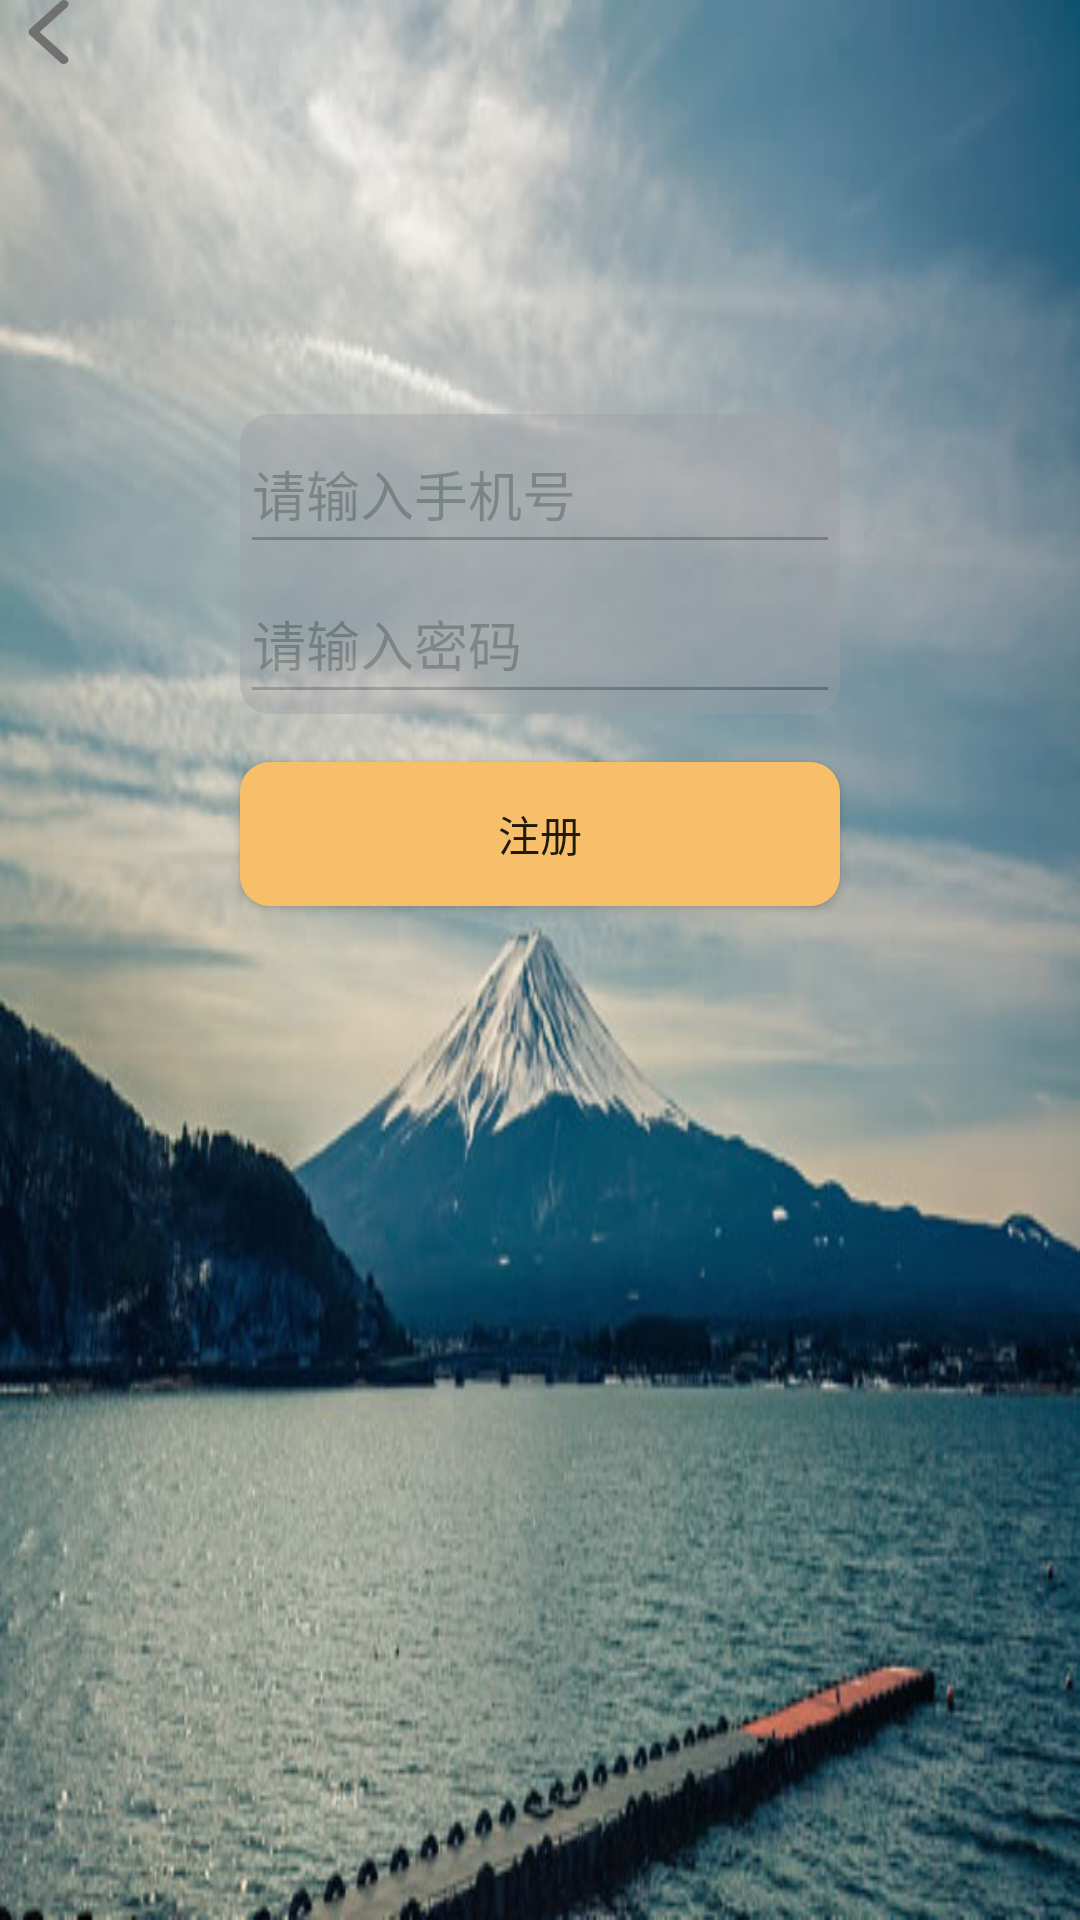

Screen size 1080 × 1920. Icon name, then its box in pixels as bbox=(x1, y1, x2, y2):
register return: bbox=(28, 0, 69, 64)
